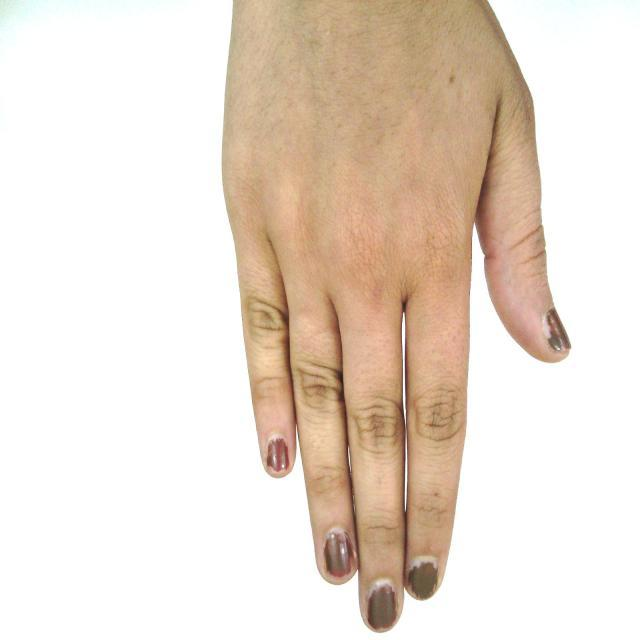Fingernail: (324, 528, 354, 579), (367, 580, 397, 631), (405, 556, 438, 599), (543, 308, 571, 351), (268, 434, 288, 474)
